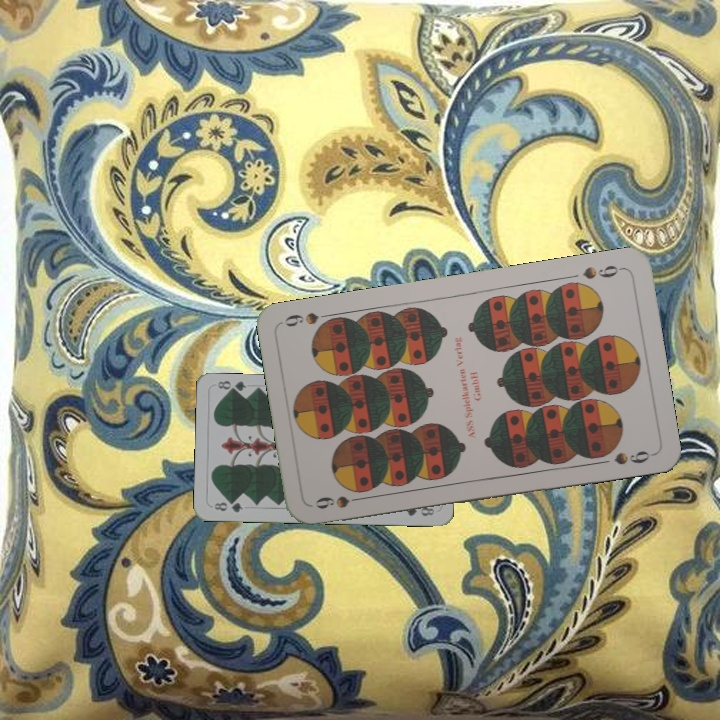G8: (210, 497, 245, 515)
S9: (311, 491, 369, 512), (579, 261, 626, 282)
